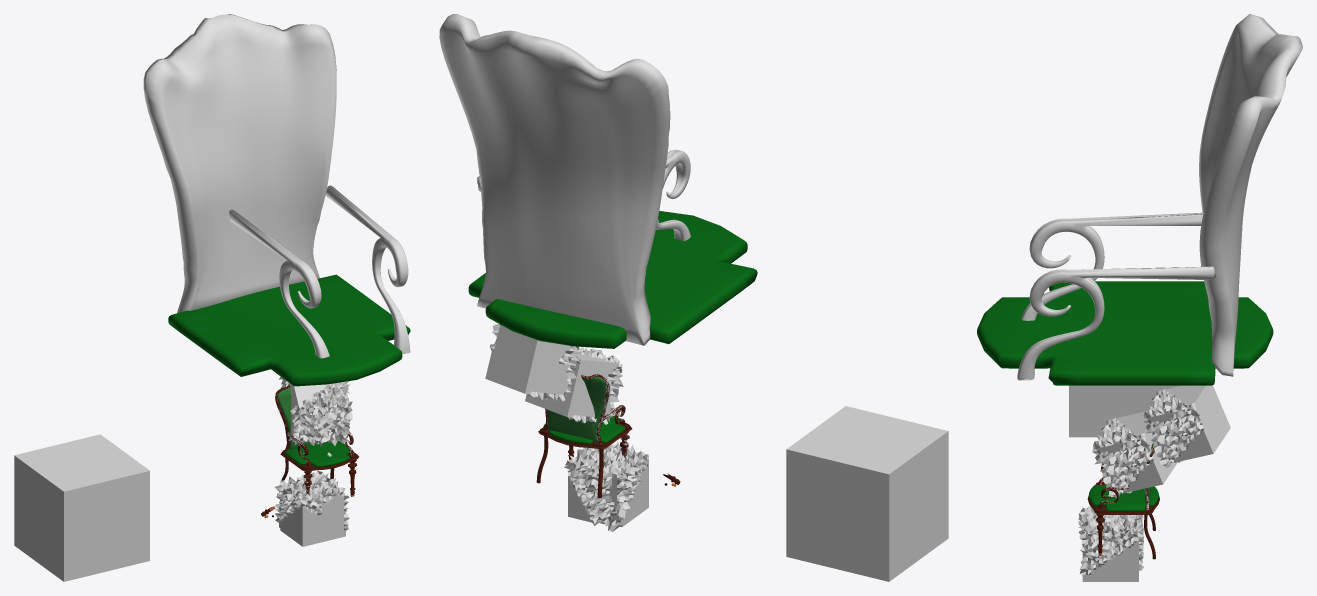
Rendered from chair_broken.glb.
3 views of the same model, side by side, from view 1: azimuth 30°, elevation 25°; view 2: azimuth 150°, elevation 25°; view 3: azimuth 270°, elevation 25° (orthographic). The views are drawn at different scales.
Visible parts, largest first — view 1: BézierCurve - backing_cushion, Reference cube, chair_base_cushion, arm_l_front, Frontleg frac, Arm_frac.001, chair_base_cushion._LP; view 2: BézierCurve - backing_cushion, Reference cube, chair_base_cushion, Frontleg frac, Backing_frac, Arm_frac.001, BézierCurve - backing_cushion._LP, arm_l_front, chair_base_cushion._LP; view 3: chair_base_cushion, BézierCurve - backing_cushion, arm_l_front, Backing_frac, Arm_frac.001, Frontleg frac, Reference cube, chair_base_cushion._LP.
Boxes of the visible parts, box(x1,y1,x2,y2) form: BézierCurve - backing_cushion: box(143, 14, 336, 313); Reference cube: box(14, 434, 149, 581); chair_base_cushion: box(168, 274, 410, 386); arm_l_front: box(229, 185, 410, 358); Frontleg frac: box(274, 471, 349, 546); Arm_frac.001: box(288, 381, 352, 446); chair_base_cushion._LP: box(284, 441, 353, 467); BézierCurve - backing_cushion: box(439, 14, 670, 345); Reference cube: box(786, 406, 948, 581); chair_base_cushion: box(468, 211, 757, 348); Frontleg frac: box(564, 441, 648, 531); Backing_frac: box(485, 324, 580, 401); Arm_frac.001: box(525, 347, 623, 424); BézierCurve - backing_cushion._LP: box(547, 377, 606, 441); arm_l_front: box(477, 149, 690, 240); chair_base_cushion._LP: box(543, 416, 625, 444); chair_base_cushion: box(977, 281, 1273, 385); BézierCurve - backing_cushion: box(1199, 14, 1302, 376); arm_l_front: box(1017, 212, 1216, 380); Backing_frac: box(1143, 385, 1230, 467); Arm_frac.001: box(1092, 411, 1177, 498); Frontleg frac: box(1078, 505, 1144, 581); Reference cube: box(1069, 385, 1180, 437); chair_base_cushion._LP: box(1089, 484, 1158, 511).
Size of the model in its own units: 4.01 by 5.16 by 2.89.
